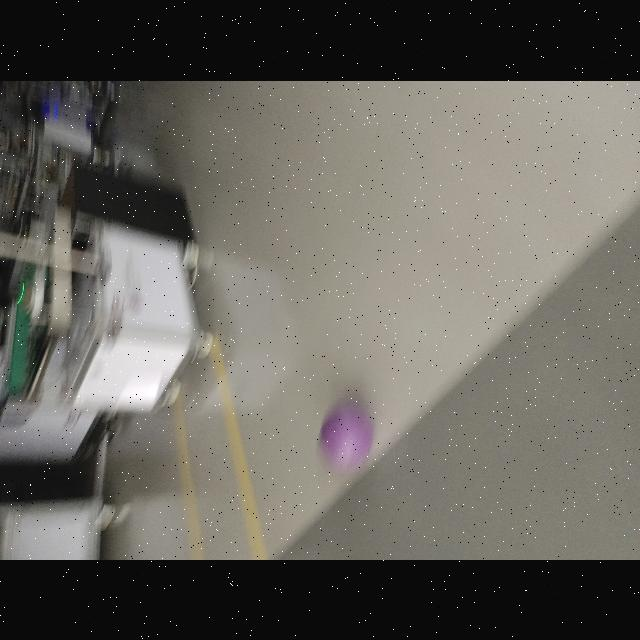P: (317, 402, 375, 470)
